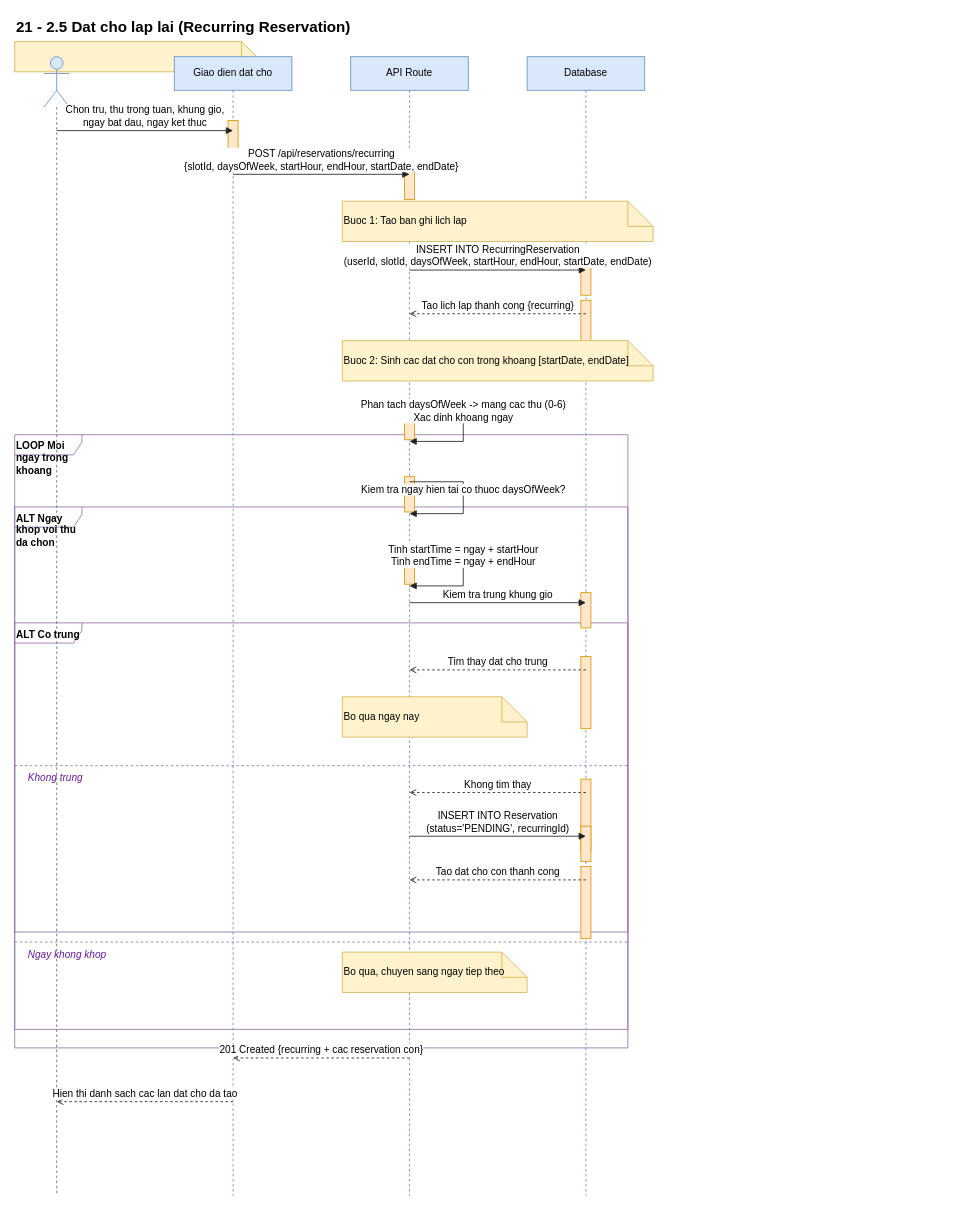
The diagram is 970 pixels wide and 1211 high, and some of its shapes have lost their labels. Each missing label, with the centre of its shape:
Khach hang: [56,81]
Mermaid sequence source: PHAN_TICH_THIET_KE_HE_THONG.md:998: [140,56]
